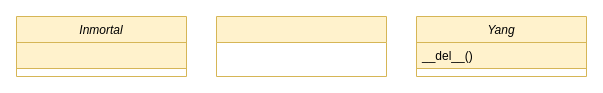
Image size: 603x93. Some labels were removed from this diagram. Each missing label, with the centre of its shape:
ejecutar_ejercicio(): pixel 101 55
Yin: pixel 301 46
